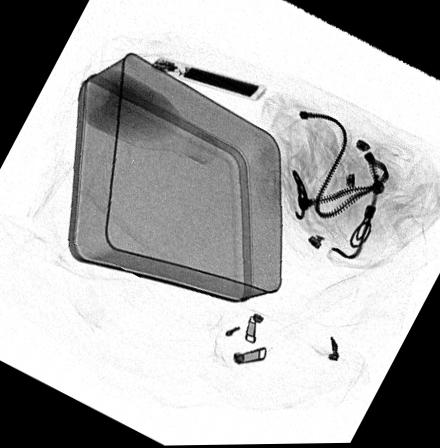Powerbank: (150, 54, 270, 104)
